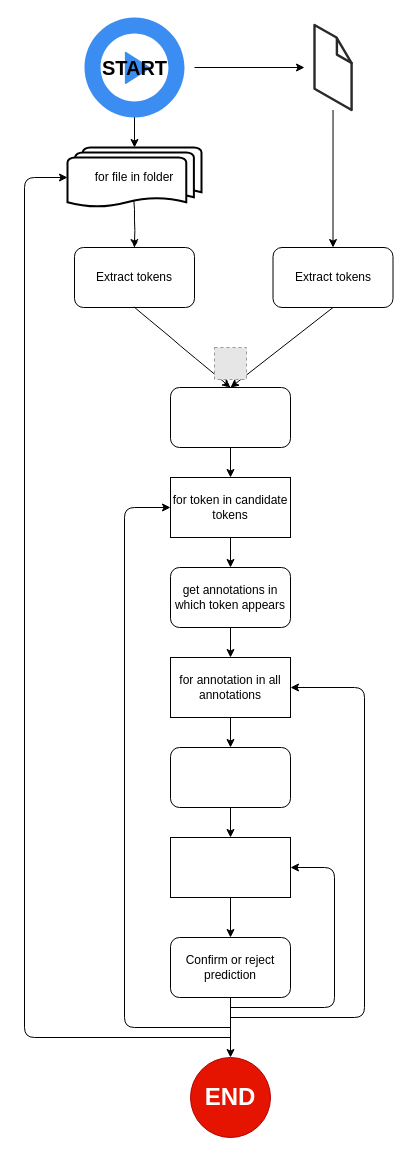
The diagram is 411 pixels wide and 1155 high, and some of its shapes have lost their labels. Grey dashed boxes stand in for pictures. The centre of each missing label's shape, as x and y in pixels:
"for match in all matches" belongs at (x=230, y=867).
"get matches in text of token" belongs at (x=230, y=777).
"Intersection of tokens: candidates" belongs at (x=230, y=417).
"TSV with annotations" belongs at (x=333, y=67).
